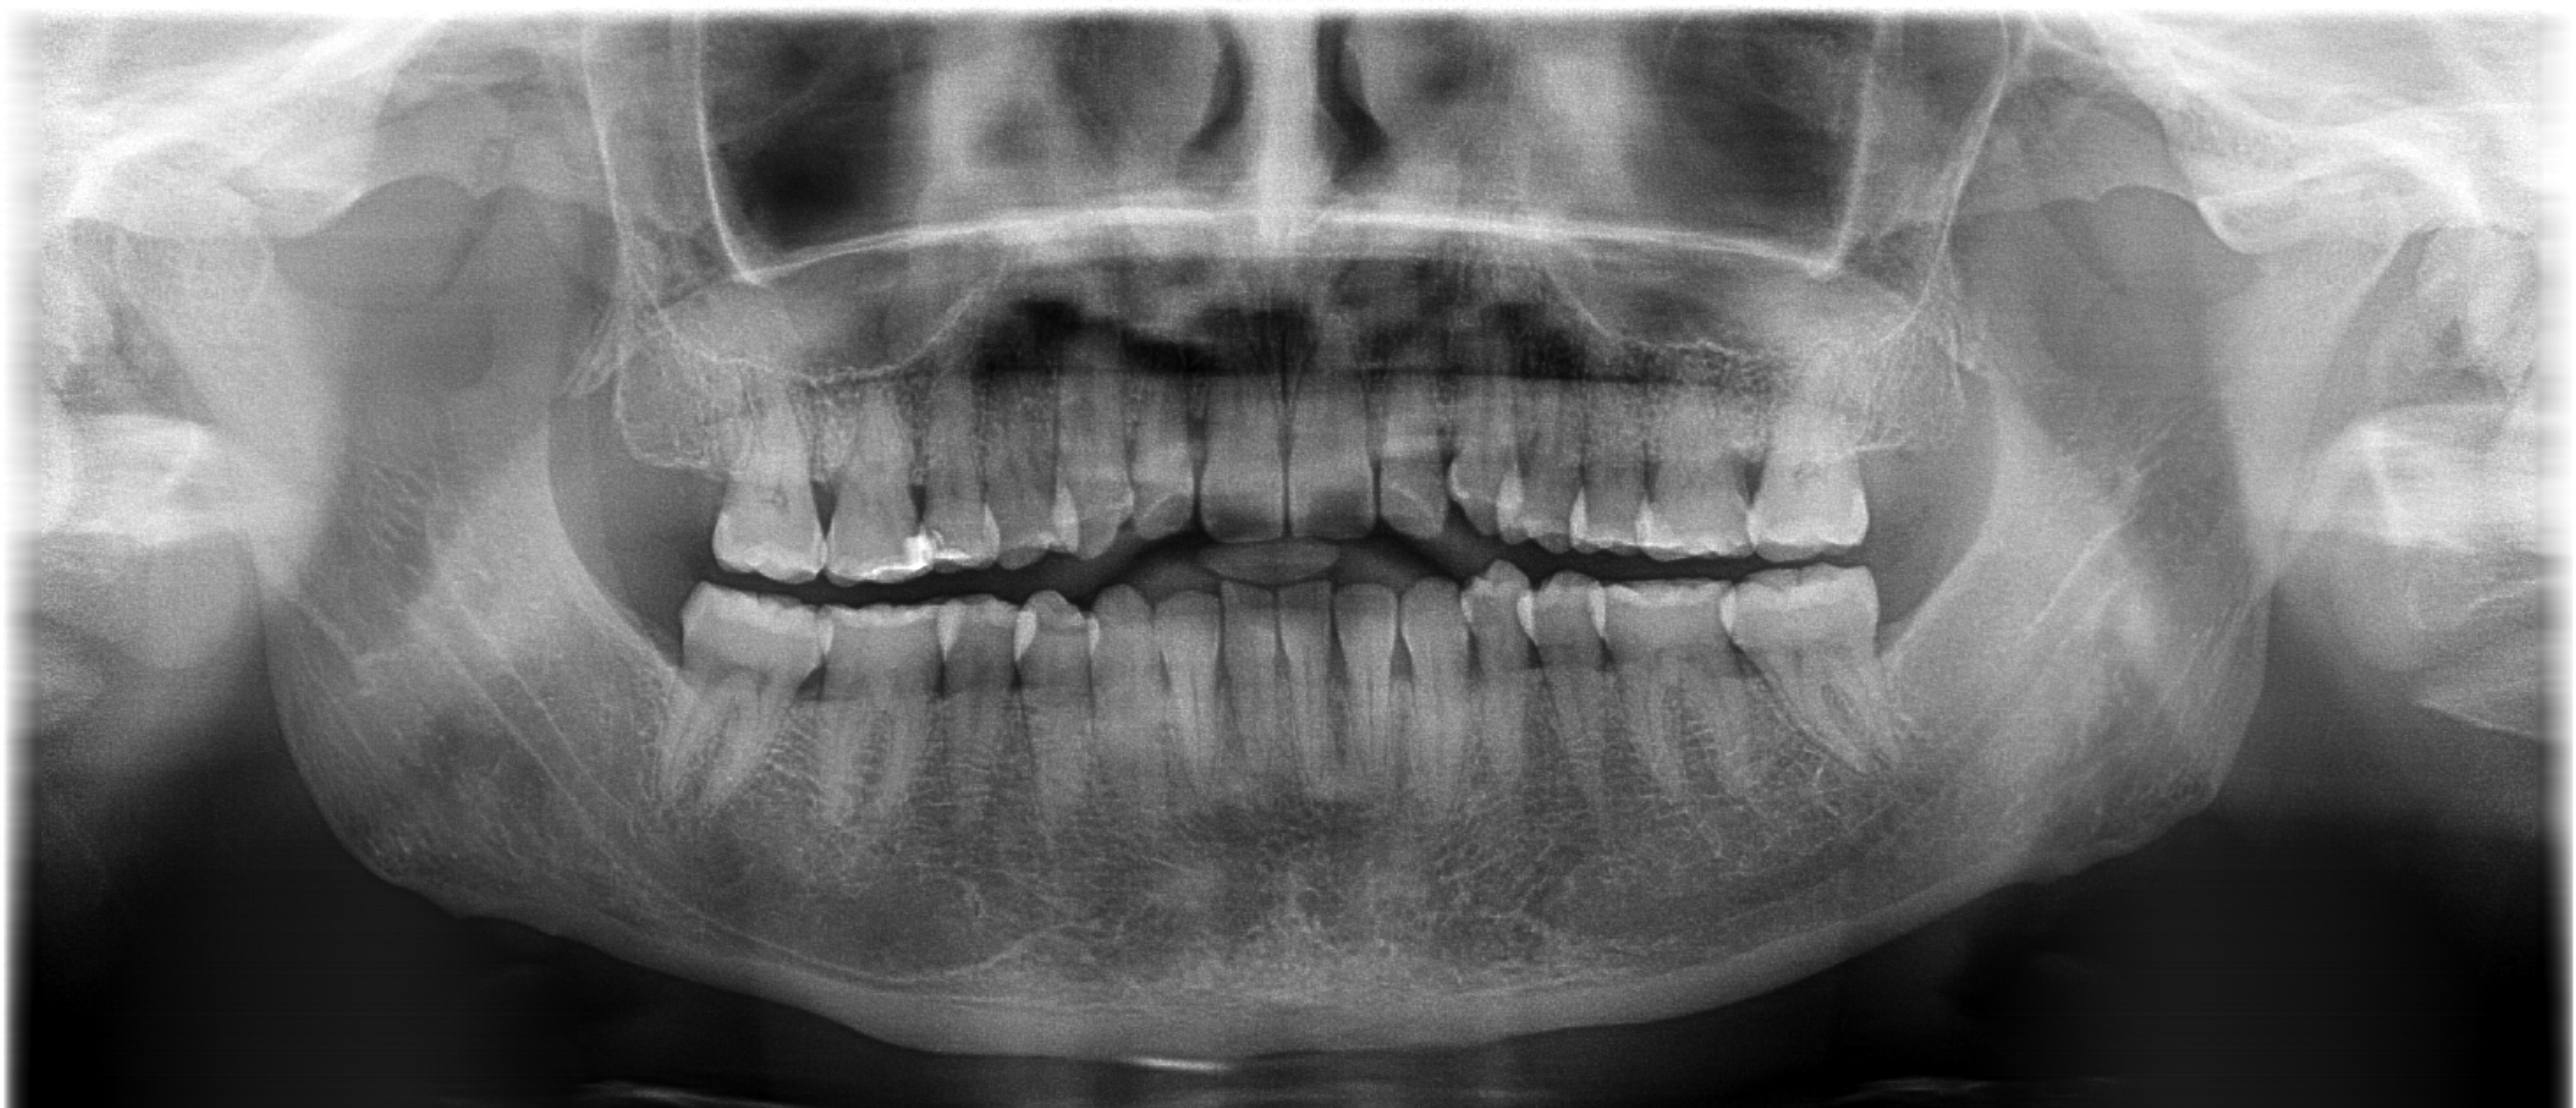dientes_sanos: (586, 293, 1986, 832)
